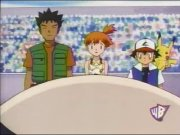pikachu: (151, 30, 178, 73)
